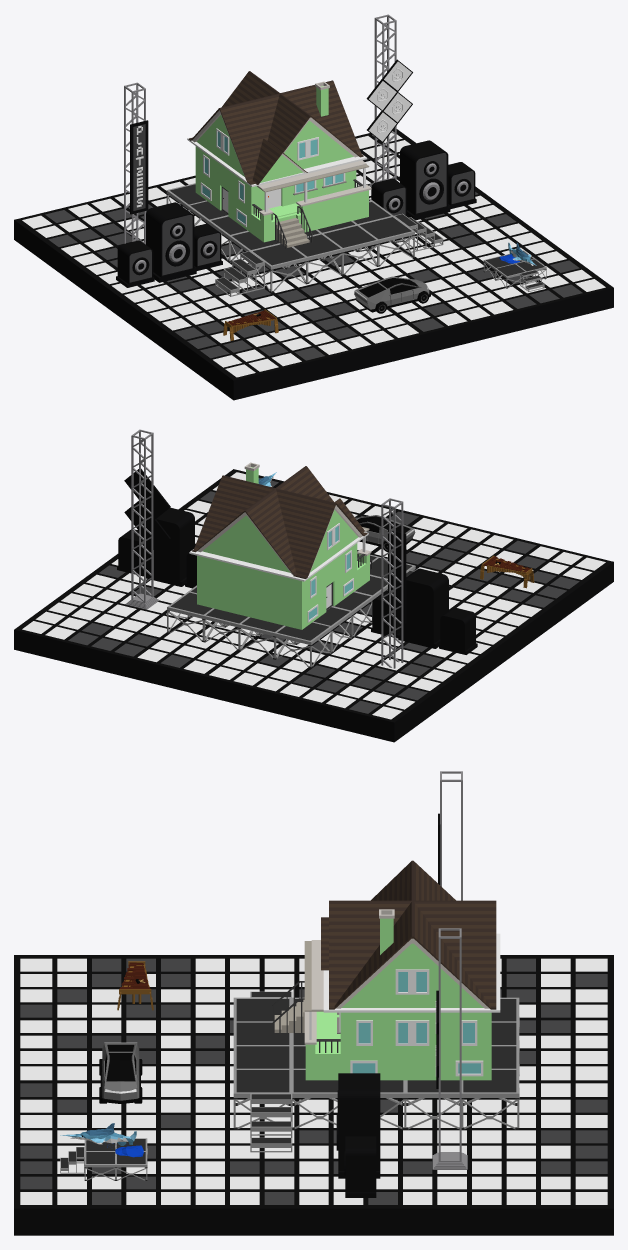
The picture shows the model from 3 angles, top to bottom: view 1: azimuth 30°, elevation 25°; view 2: azimuth 150°, elevation 25°; view 3: azimuth 270°, elevation 25°; orthographic projection. The views are drawn at different scales.
Visible parts, largest first — view 1: Cube.008, Cube.274, VEHICLES_CYBERTRUCK, OBJRANDOM_MARIMBA; view 2: Cube.008, Cube.274, VEHICLES_CYBERTRUCK, OBJRANDOM_MARIMBA; view 3: Cube.008, Cube.274, VEHICLES_CYBERTRUCK, ANIMAL_PEZ_ESPADA, OBJRANDOM_MARIMBA.
Part boxes in pixels (box(x1,y1,x2,y2)): Cube.008: box(14, 14, 613, 400); Cube.274: box(187, 71, 371, 248); VEHICLES_CYBERTRUCK: box(354, 276, 430, 313); OBJRANDOM_MARIMBA: box(223, 309, 278, 340); Cube.008: box(14, 429, 613, 742); Cube.274: box(189, 462, 372, 629); VEHICLES_CYBERTRUCK: box(355, 515, 415, 552); OBJRANDOM_MARIMBA: box(480, 555, 534, 588); Cube.008: box(14, 771, 613, 1235); Cube.274: box(272, 860, 500, 1080); VEHICLES_CYBERTRUCK: box(99, 1042, 142, 1103); ANIMAL_PEZ_ESPADA: box(60, 1123, 143, 1157); OBJRANDOM_MARIMBA: box(117, 961, 153, 1010).
Bounding box in the file's own units: 4000 × 1972 × 4000.
44 materials, 1 textured.
